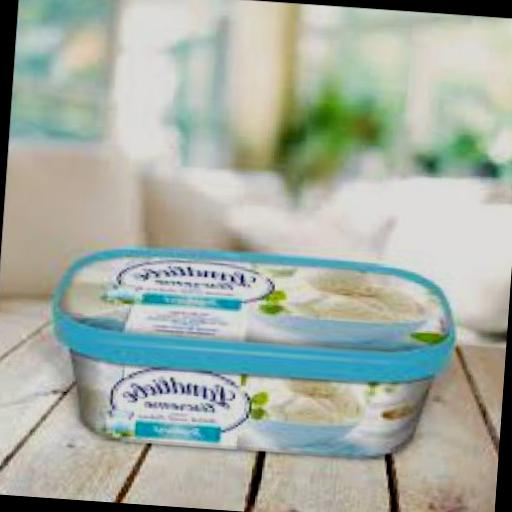plastic: (48, 236, 461, 462), (50, 237, 460, 383)
